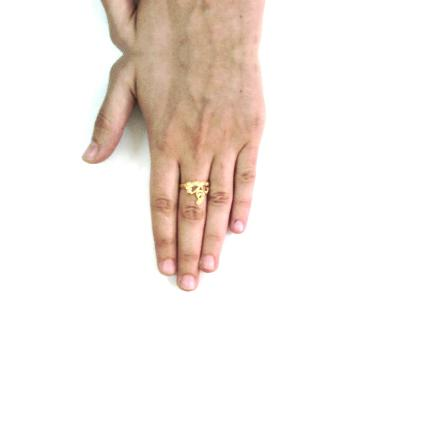Nail: (82, 139, 100, 161), (180, 274, 196, 290), (161, 258, 176, 275), (201, 254, 215, 270), (233, 220, 245, 233)
